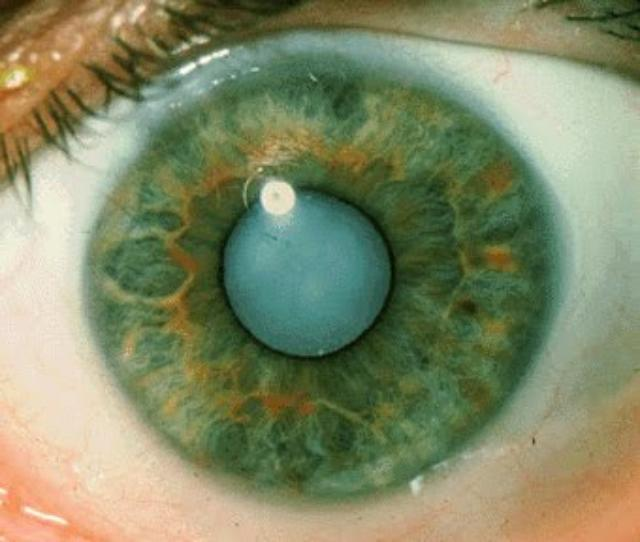eye: (76, 66, 568, 520)
